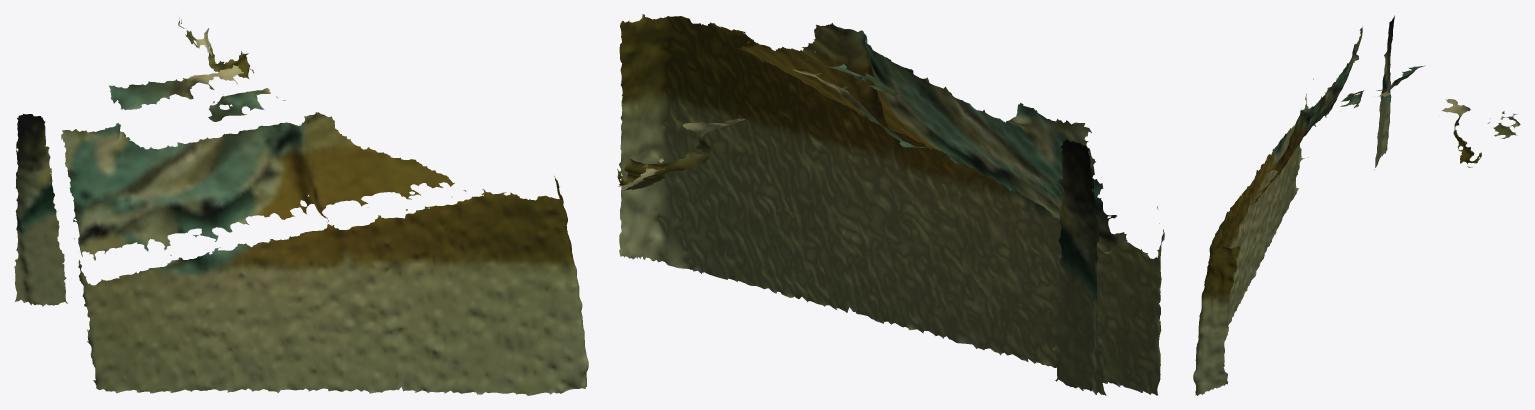
The model's file is color_model_f007_20260204_220910.obj.
The picture shows the model from 3 angles, left to right: view 1: azimuth 30°, elevation 25°; view 2: azimuth 150°, elevation 25°; view 3: azimuth 270°, elevation 25°; orthographic projection. The views are drawn at different scales.
Size of the model in its own units: 1.84 by 1.11 by 1.5.
